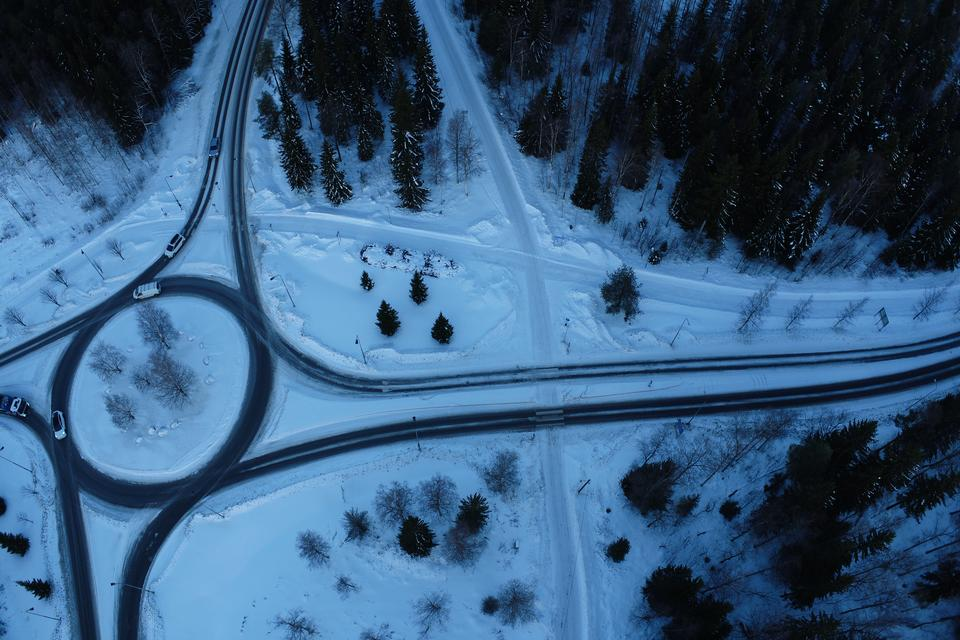intersection: (510, 341, 584, 450), (152, 178, 268, 245)
roundabout: (17, 250, 316, 542)
